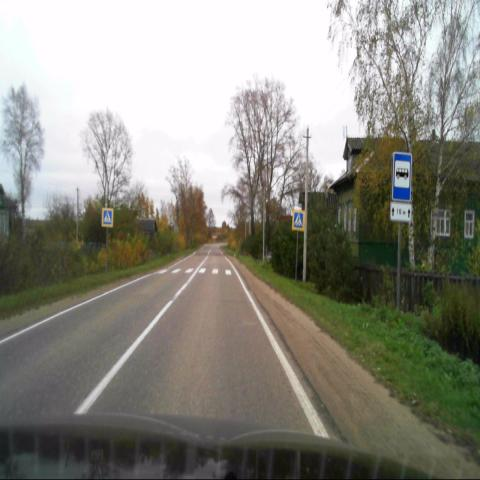8_2_1: (389, 201, 411, 222)
